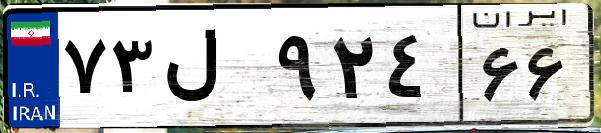2: (330, 28, 385, 110)
3: (110, 28, 158, 98)
4: (385, 28, 445, 110)
6: (475, 38, 525, 113), (525, 38, 570, 115)
7: (57, 26, 110, 100)
9: (270, 28, 330, 110)
ل: (158, 20, 270, 120)
